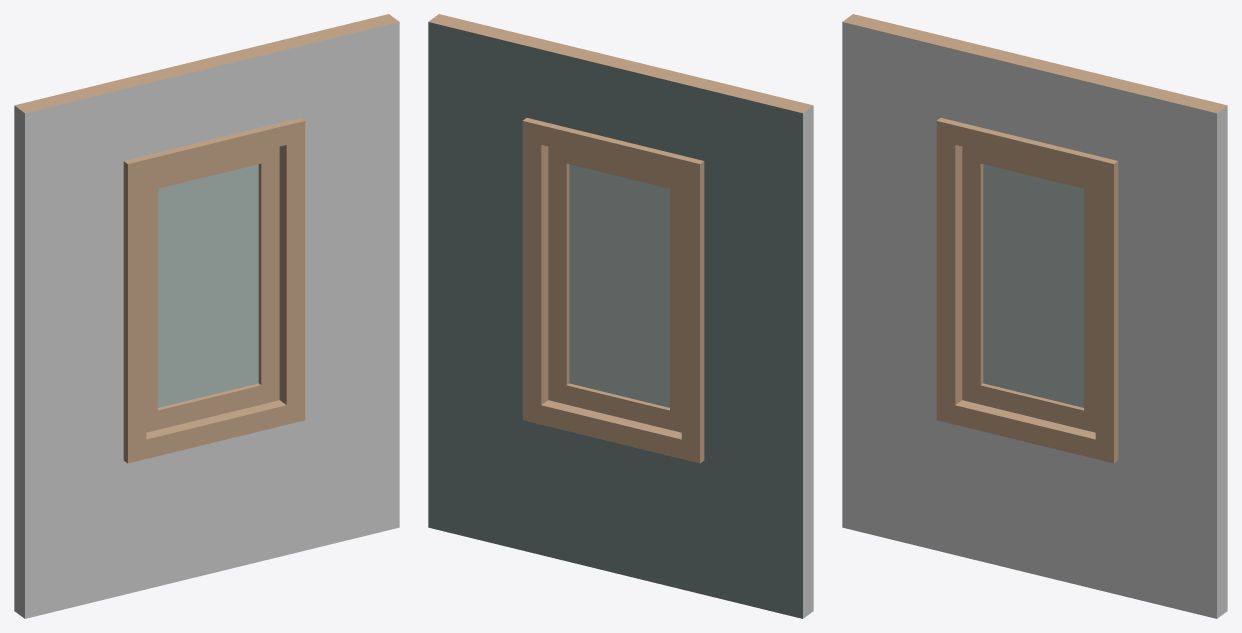
Rendered from wallWindow.glb.
The picture shows the model from 3 angles, left to right: view 1: azimuth 30°, elevation 25°; view 2: azimuth 150°, elevation 25°; view 3: azimuth 330°, elevation 25°; orthographic projection.
Visible parts, largest first — view 1: wallWindow; view 2: wallWindow; view 3: wallWindow.
Part boxes in pixels (x1,y1,x2,y2): wallWindow: (14, 14, 399, 618); wallWindow: (428, 14, 813, 618); wallWindow: (842, 14, 1227, 618).
Bounding box in the file's own units: 1 × 1.29 × 0.0891.
